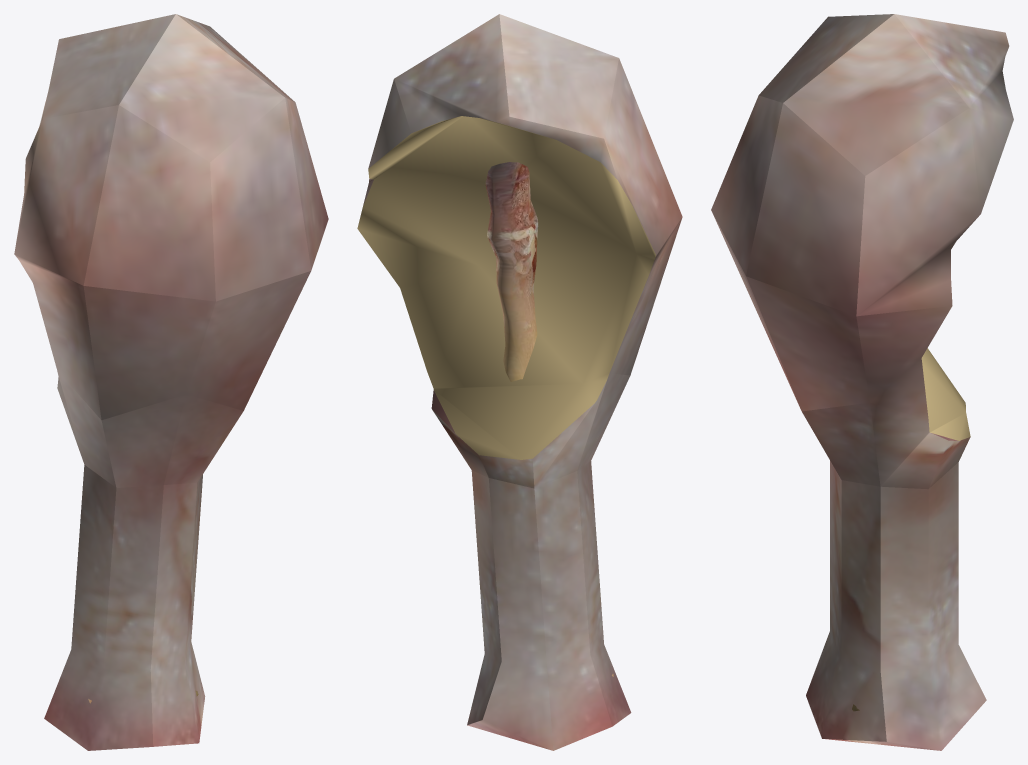
The model's file is ChickenLeg-2.fbx.
3 renders of one model, left to right at view 1: azimuth 30°, elevation 25°; view 2: azimuth 150°, elevation 25°; view 3: azimuth 270°, elevation 25°, orthographic. The views are drawn at different scales.
Parts seen in each view (by area): view 1: ChickenMeat.001; view 2: ChickenMeat.001, bone.002; view 3: ChickenMeat.001.
Boxes of the visible parts, x1=… form: ChickenMeat.001: x1=14, y1=14, x2=328, y2=750; ChickenMeat.001: x1=357, y1=14, x2=682, y2=750; bone.002: x1=485, y1=162, x2=613, y2=676; ChickenMeat.001: x1=711, y1=14, x2=1013, y2=750.
Bounding box in the file's own units: 1041 × 2409 × 890.
